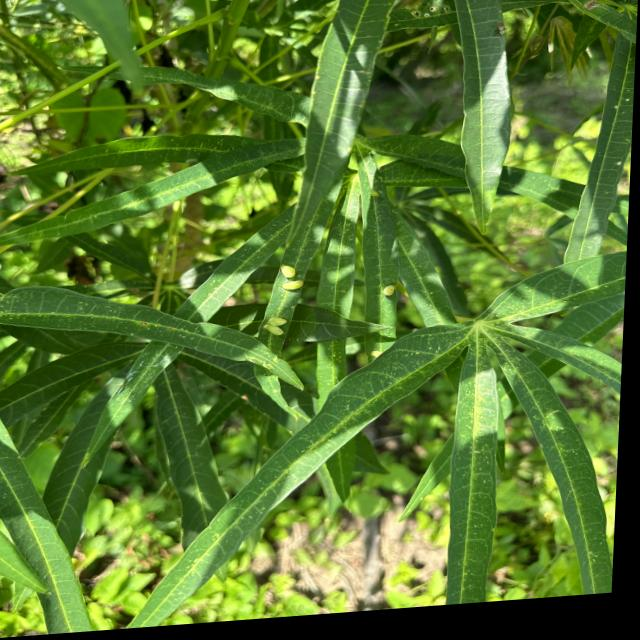Mosca: (276, 260, 307, 299), (258, 308, 290, 344), (380, 274, 403, 305)
